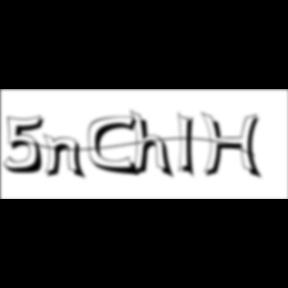5: (3, 114, 50, 176)
C: (88, 115, 144, 178)
H: (201, 112, 267, 182)
I: (178, 110, 202, 182)
h: (130, 108, 178, 182)
n: (42, 132, 90, 181)
